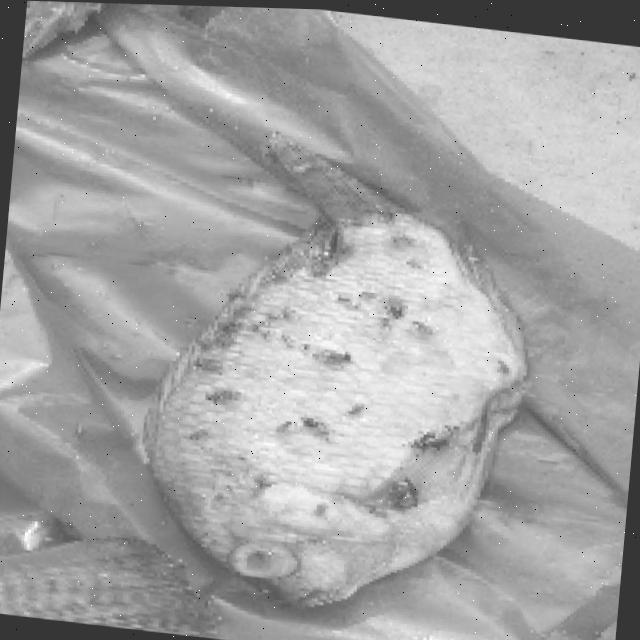Non-Fresh: (145, 135, 545, 640)
